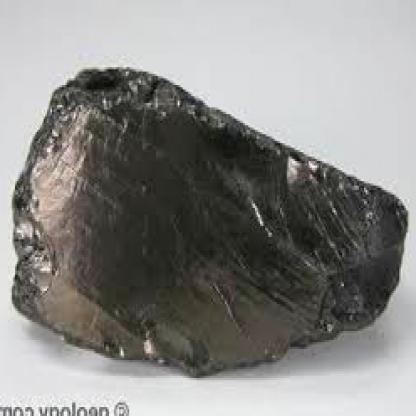Sedimentary_coal: (15, 54, 411, 389)
